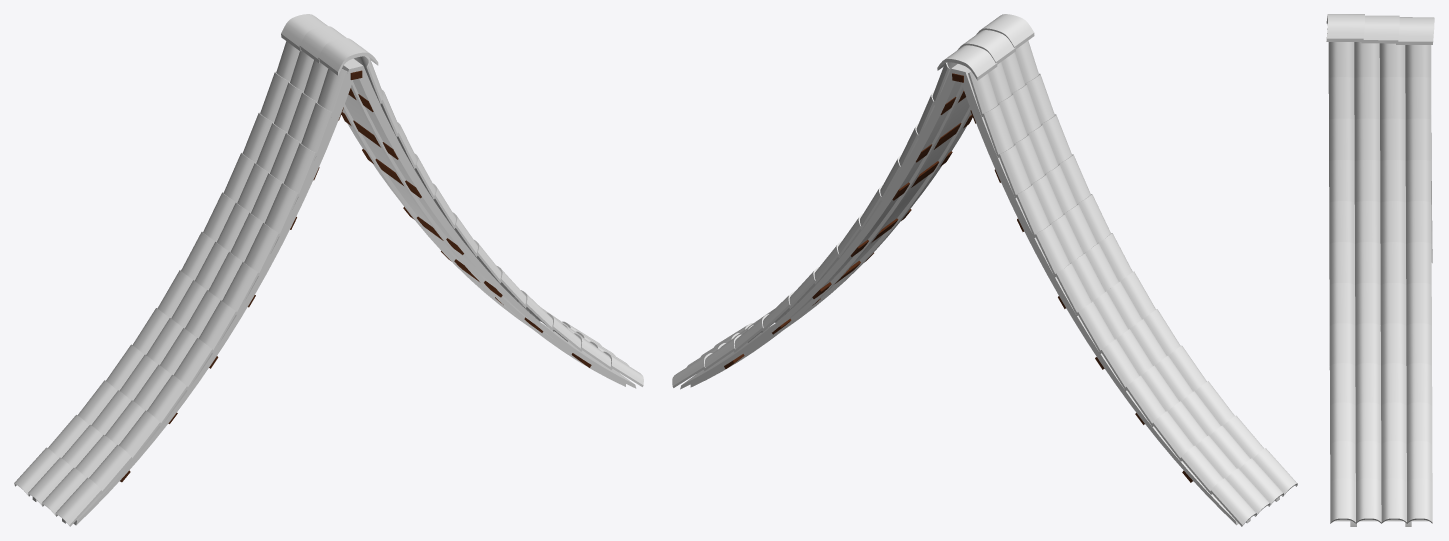
File: L_Roof_NoFrame 1.fbx
The picture shows the model from 3 angles, left to right: view 1: azimuth 30°, elevation 25°; view 2: azimuth 150°, elevation 25°; view 3: azimuth 270°, elevation 25°; orthographic projection. The views are drawn at different scales.
Parts seen in each view (by area): view 1: roof tile no move.001, L_Roof_NoFrame, Cube.021; view 2: roof tile no move.001, L_Roof_NoFrame, Cube.021; view 3: roof tile no move.001, L_Roof_NoFrame.
Boxes of the visible parts, x1=… form: roof tile no move.001: x1=14, y1=14, x2=643, y2=526; L_Roof_NoFrame: x1=32, y1=58, x2=636, y2=525; Cube.021: x1=120, y1=70, x2=591, y2=482; roof tile no move.001: x1=672, y1=14, x2=1297, y2=526; L_Roof_NoFrame: x1=680, y1=64, x2=1279, y2=525; Cube.021: x1=724, y1=73, x2=1192, y2=482; roof tile no move.001: x1=1326, y1=14, x2=1434, y2=523; L_Roof_NoFrame: x1=1334, y1=45, x2=1431, y2=526.
Bounding box in the file's own units: 1296 × 875 × 224.
